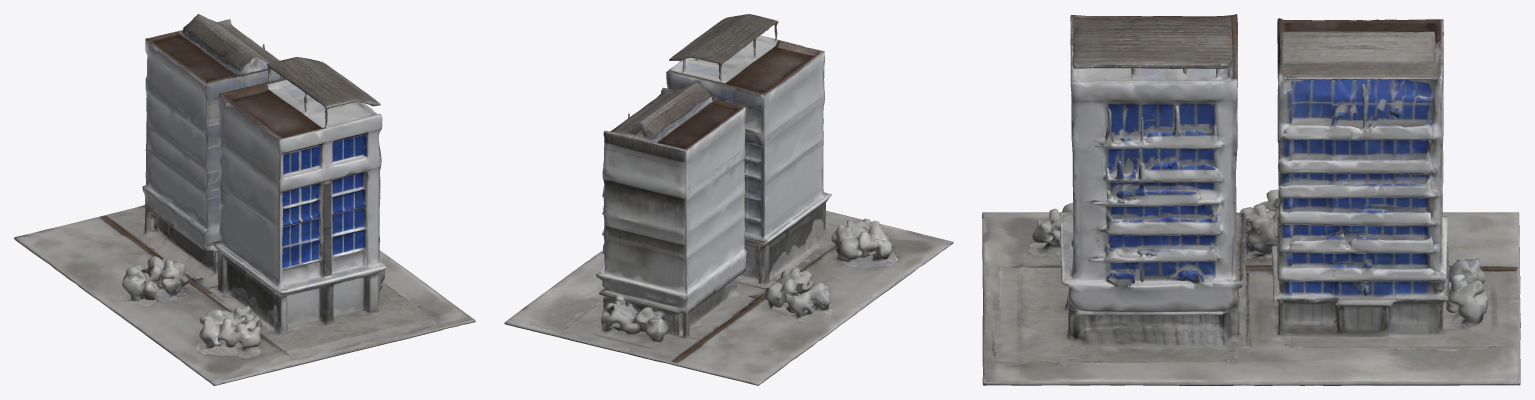
Rendered from contai.glb.
3 views of the same model, side by side, from view 1: azimuth 30°, elevation 25°; view 2: azimuth 150°, elevation 25°; view 3: azimuth 270°, elevation 25° (orthographic). The views are drawn at different scales.
Bounding box in the file's own units: 1.51 × 1.21 × 2.01.
Materials: 1 (1 with a texture image).
